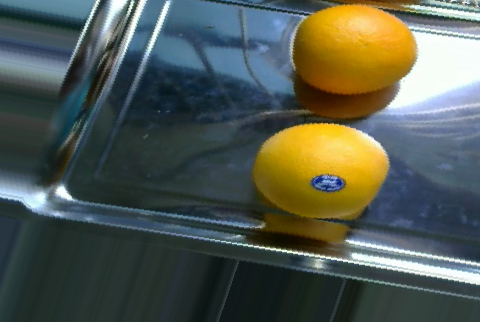Orange: (251, 121, 392, 219), (290, 3, 419, 94)
